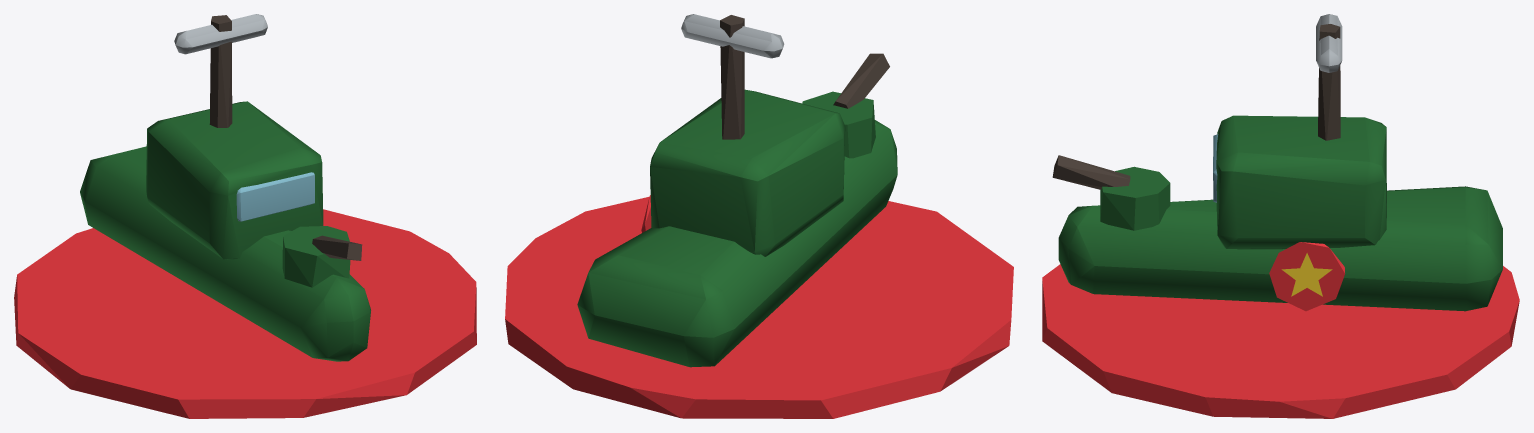
The model's file is vietnam_navy_lod1.glb.
The picture shows the model from 3 angles, left to right: view 1: azimuth 30°, elevation 25°; view 2: azimuth 150°, elevation 25°; view 3: azimuth 270°, elevation 25°; orthographic projection. The views are drawn at different scales.
Parts seen in each view (by area): view 1: base_pedestal, body_hull; view 2: base_pedestal, body_hull; view 3: body_hull, base_pedestal.
Part boxes in pixels (<box>): base_pedestal: <box>14,209,476,418</box>; body_hull: <box>80,14,370,361</box>; base_pedestal: <box>505,196,1013,418</box>; body_hull: <box>577,14,897,367</box>; body_hull: <box>1052,14,1502,311</box>; base_pedestal: <box>1042,264,1519,418</box>.
Size of the model in its own units: 0.7751 by 0.5196 by 0.7751.
